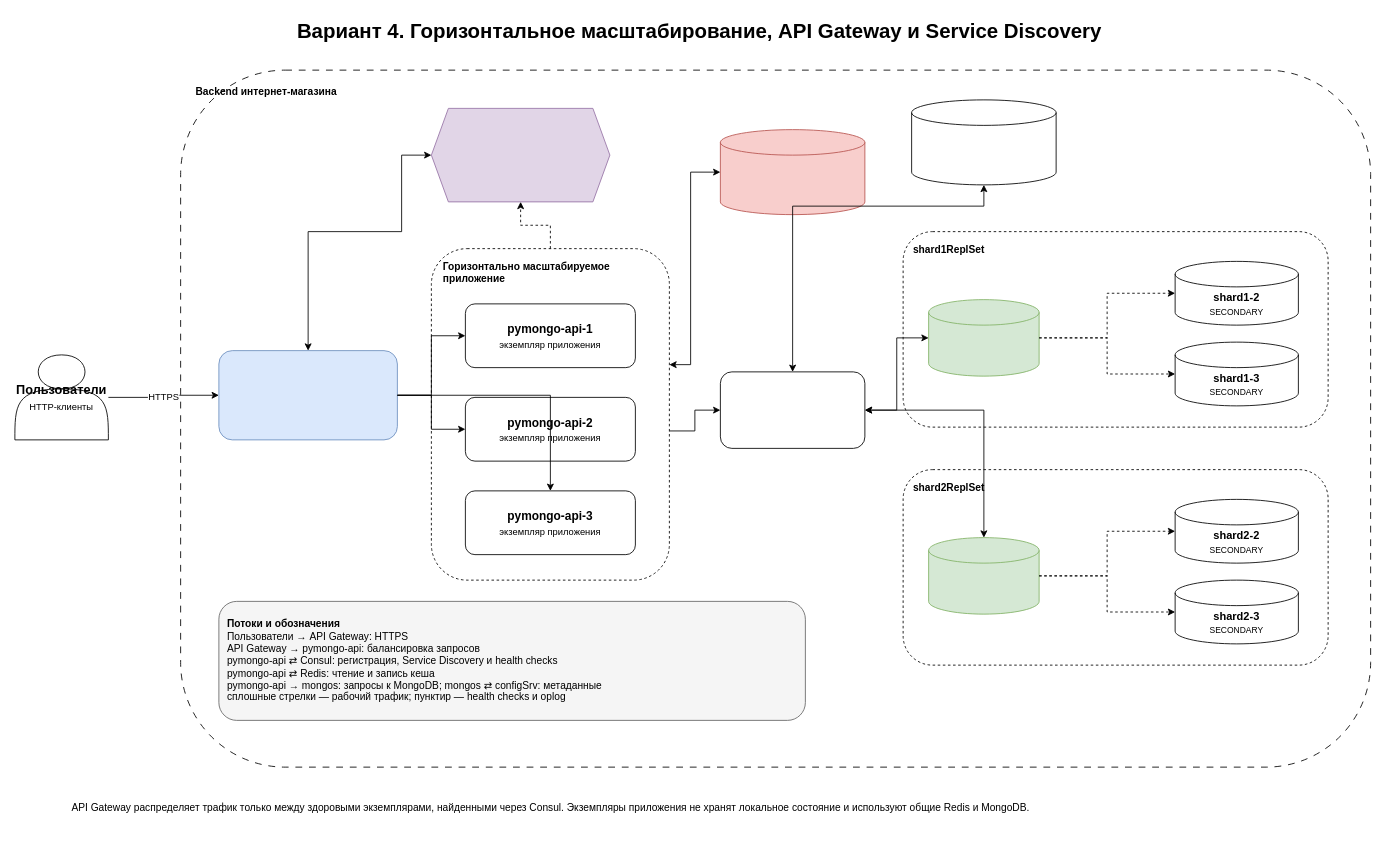
Image size: 1386x841. Some labels were removed from this diagram. The centre of each missing label's shape, as x and y in pixels:
"API Gateway Балансировка и единая точка входа" belongs at point (307, 395).
"configSrv configReplSet 27019" belongs at point (983, 142).
"Consul Service Discovery реестр и health checks" belongs at point (520, 155).
"mongos Маршрутизатор · 27017" belongs at point (792, 409).
"Redis Кеш · 6379" belongs at point (792, 172).
"shard1-1 PRIMARY" belongs at point (983, 337).
"shard2-1 PRIMARY" belongs at point (983, 575).
